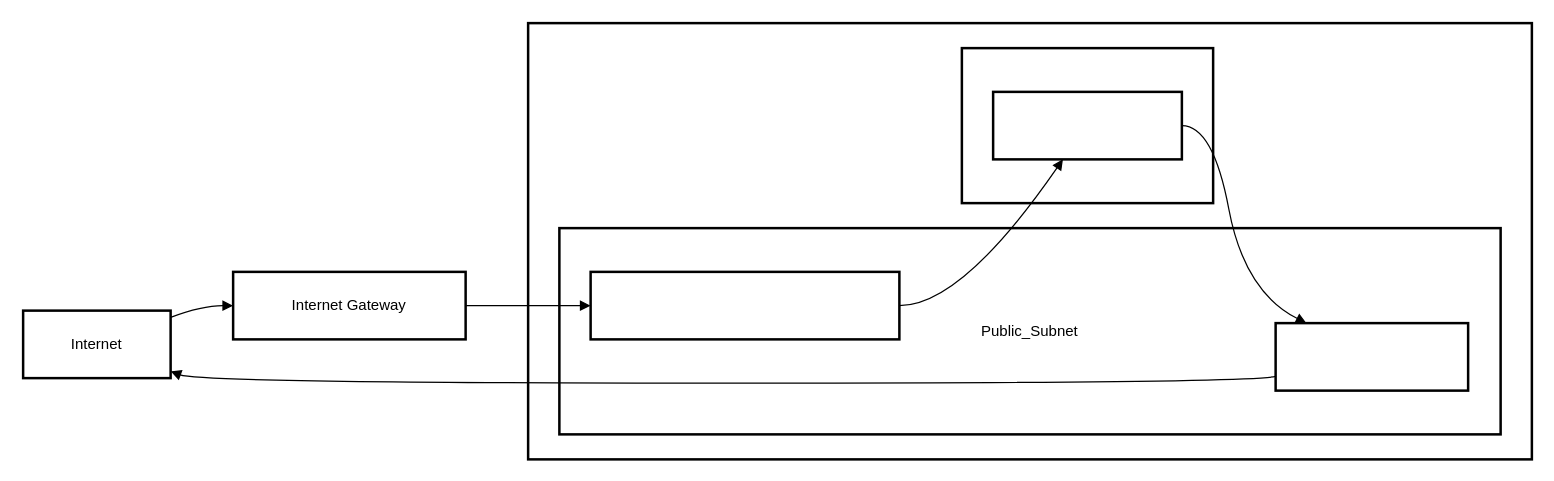
This 1554x481 diagram has some shape labels left out. Here are the shapes that lost their labels. From the top down, the centre of each, then its label:
(x=1086, y=125): EC2 Instance
(x=744, y=305): Application Load Balancer
(x=1371, y=356): NAT Gateway
